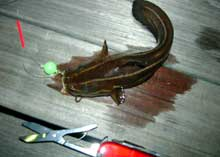gonzui: (47, 1, 180, 100)
